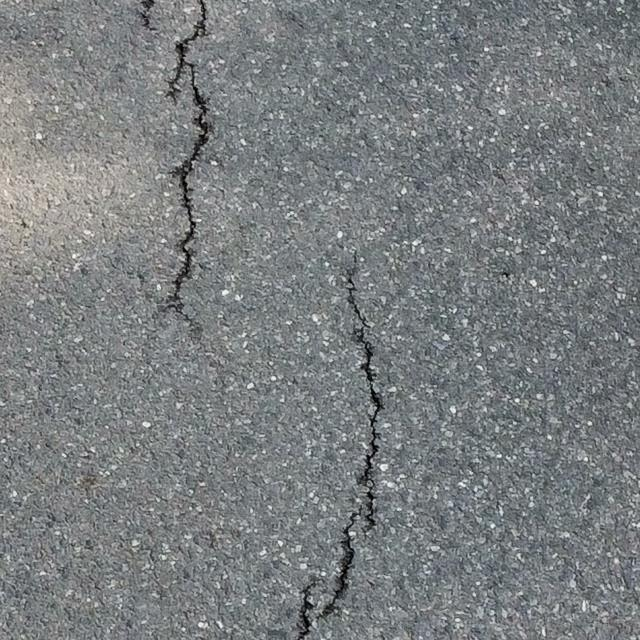LongitudinalCrack: (295, 249, 388, 640), (165, 1, 206, 320)
